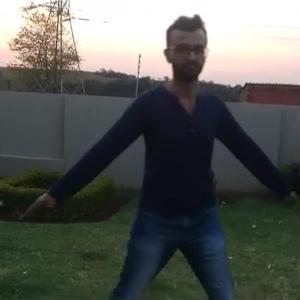land: (62, 30, 281, 299)
